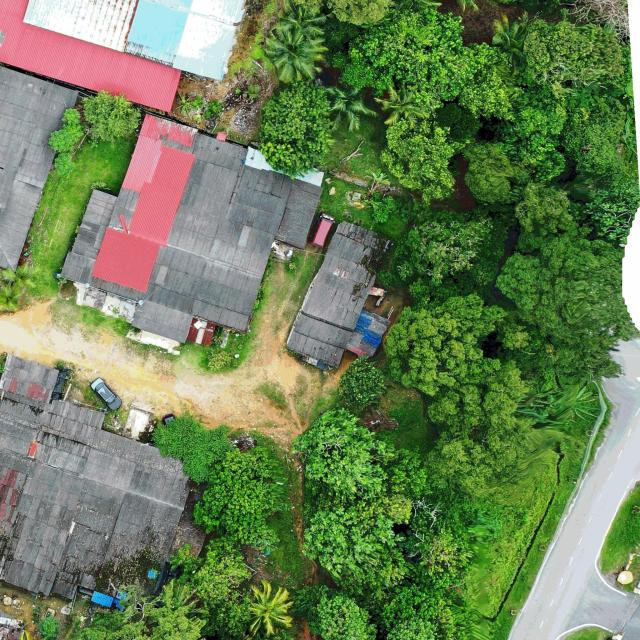Tree: (333, 9, 478, 110), (384, 291, 508, 397), (294, 405, 396, 501), (191, 442, 281, 546), (301, 500, 407, 588), (381, 117, 465, 211), (258, 79, 332, 181), (151, 411, 233, 485), (524, 21, 623, 82), (374, 580, 459, 640), (461, 41, 523, 119), (514, 184, 580, 256), (294, 584, 378, 640), (460, 142, 527, 203), (262, 26, 328, 83), (241, 578, 296, 637), (81, 90, 142, 140), (337, 354, 386, 412), (324, 81, 379, 131), (376, 82, 428, 129), (277, 0, 334, 39), (491, 10, 532, 62), (47, 106, 87, 154)
